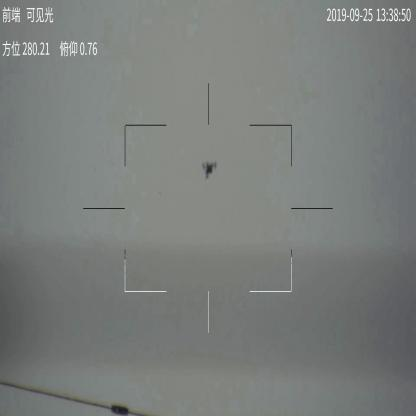uav: (201, 158, 219, 184)
